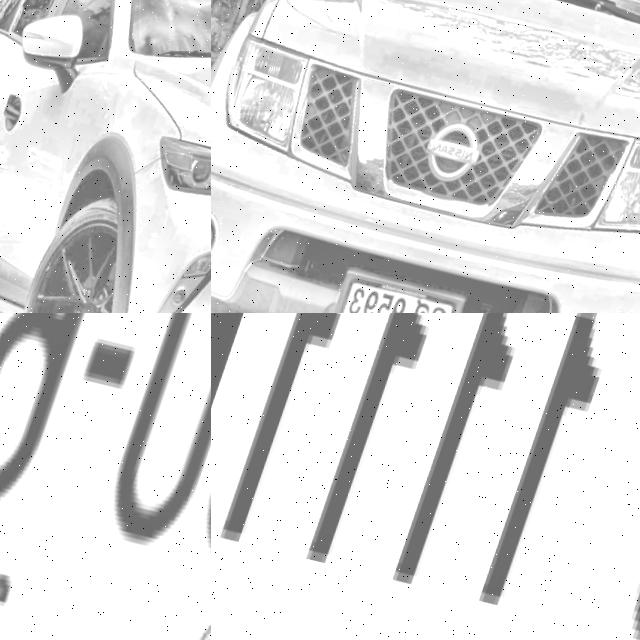license-plate: (211, 313, 640, 640), (0, 313, 211, 640), (328, 259, 487, 313)
